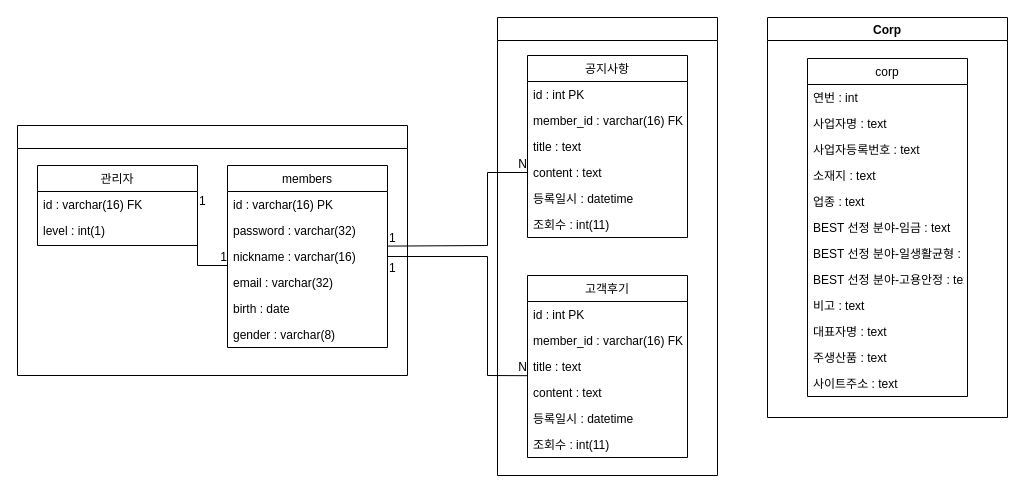
This 1025x493 diagram has some shape labels left out. The centre of each missing label's shape, as x and y in pixels:
Comunity: (607,246)
Member: (212,250)
